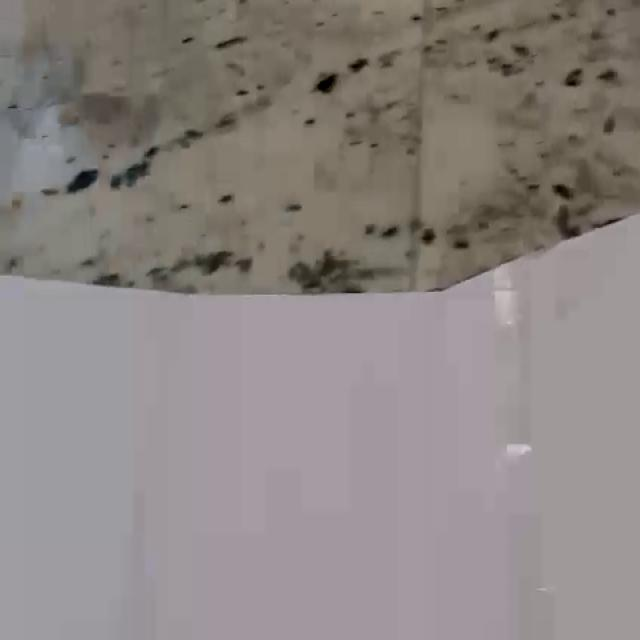road: (0, 215, 640, 640)
